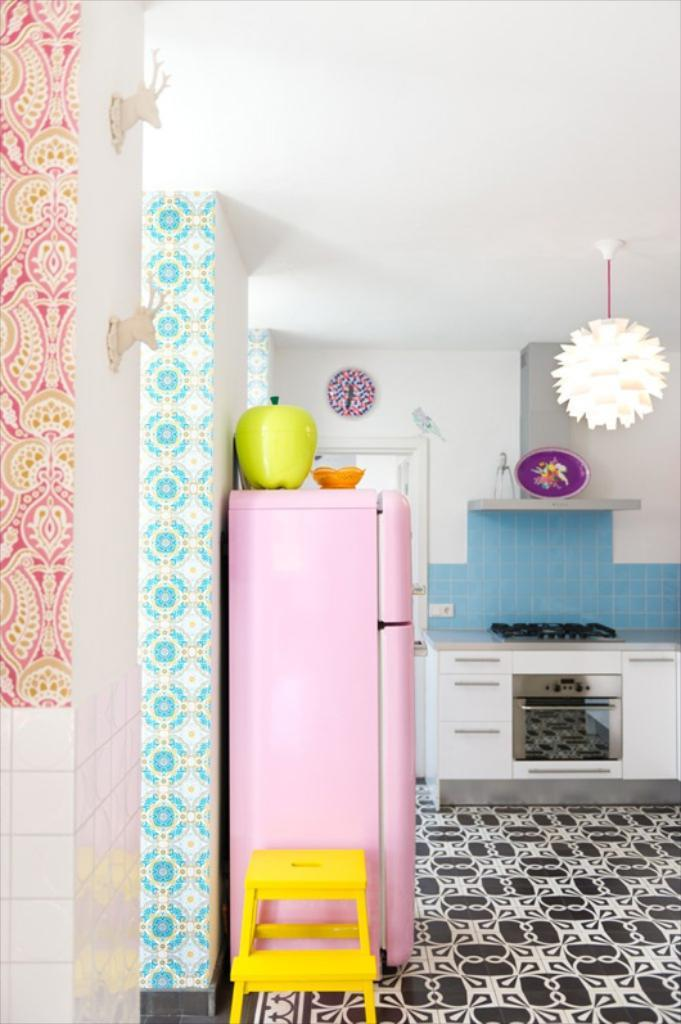cabinet_door: (626, 658, 681, 780), (441, 727, 510, 791), (440, 676, 509, 734), (440, 647, 511, 671)
handle: (450, 724, 502, 754), (451, 674, 498, 704), (453, 648, 503, 674), (630, 656, 674, 678)
